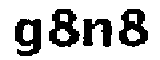8: (116, 6, 153, 53), (46, 7, 80, 49)
g: (12, 13, 45, 60)
n: (81, 16, 112, 51)
